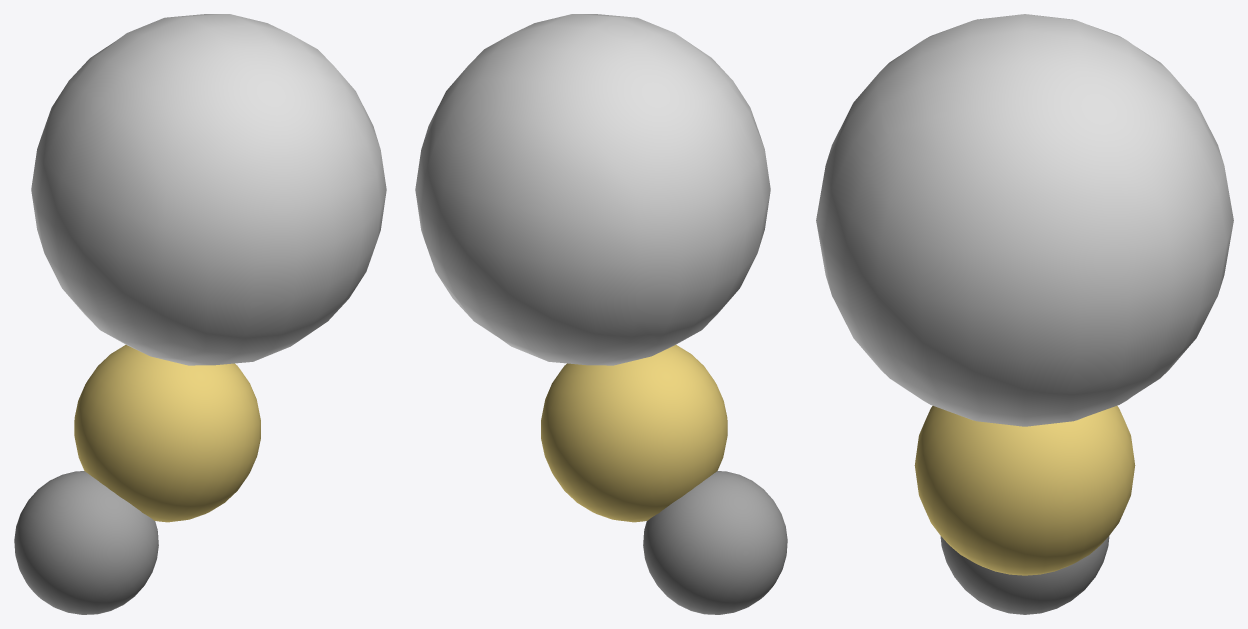
The model's file is Lamp.fbx.
3 views of the same model, side by side, from view 1: azimuth 30°, elevation 25°; view 2: azimuth 150°, elevation 25°; view 3: azimuth 270°, elevation 25° (orthographic). The views are drawn at different scales.
Visible parts, largest first — view 1: Lamp; view 2: Lamp; view 3: Lamp.
Boxes of the visible parts, <box> form: Lamp: <box>14,14,386,614</box>; Lamp: <box>415,14,787,614</box>; Lamp: <box>816,14,1233,614</box>.
Size of the model in its own units: 272 by 421 by 247.
